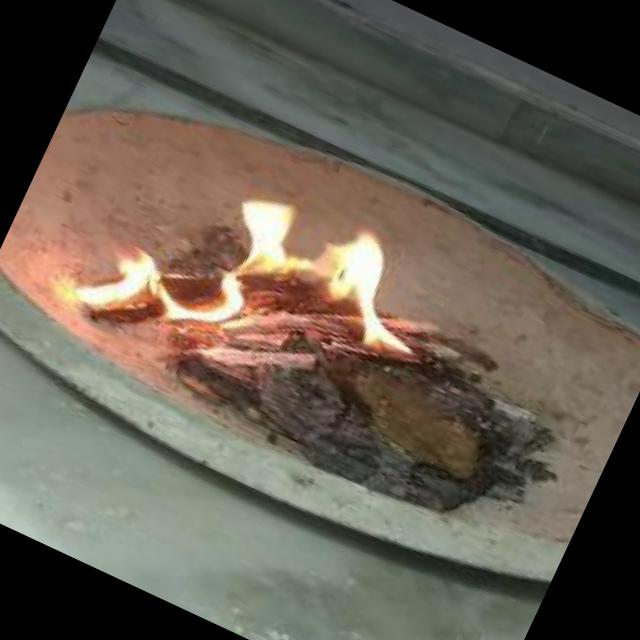fire: (48, 123, 442, 440)
